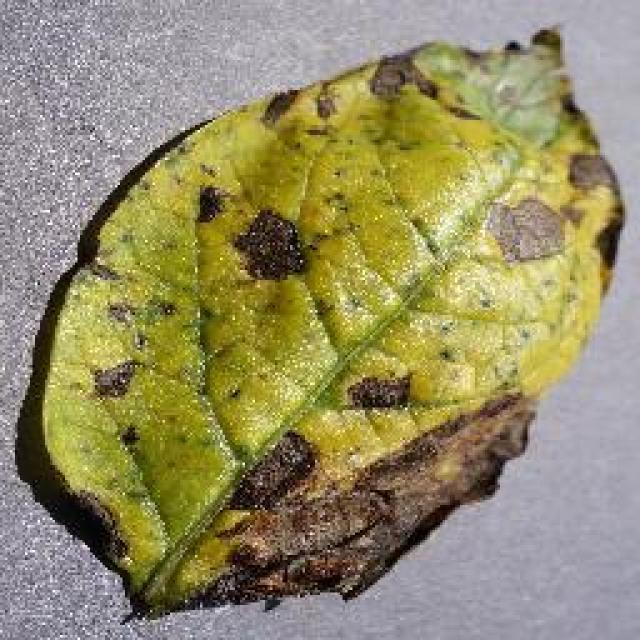early_blight: (15, 22, 630, 622)
